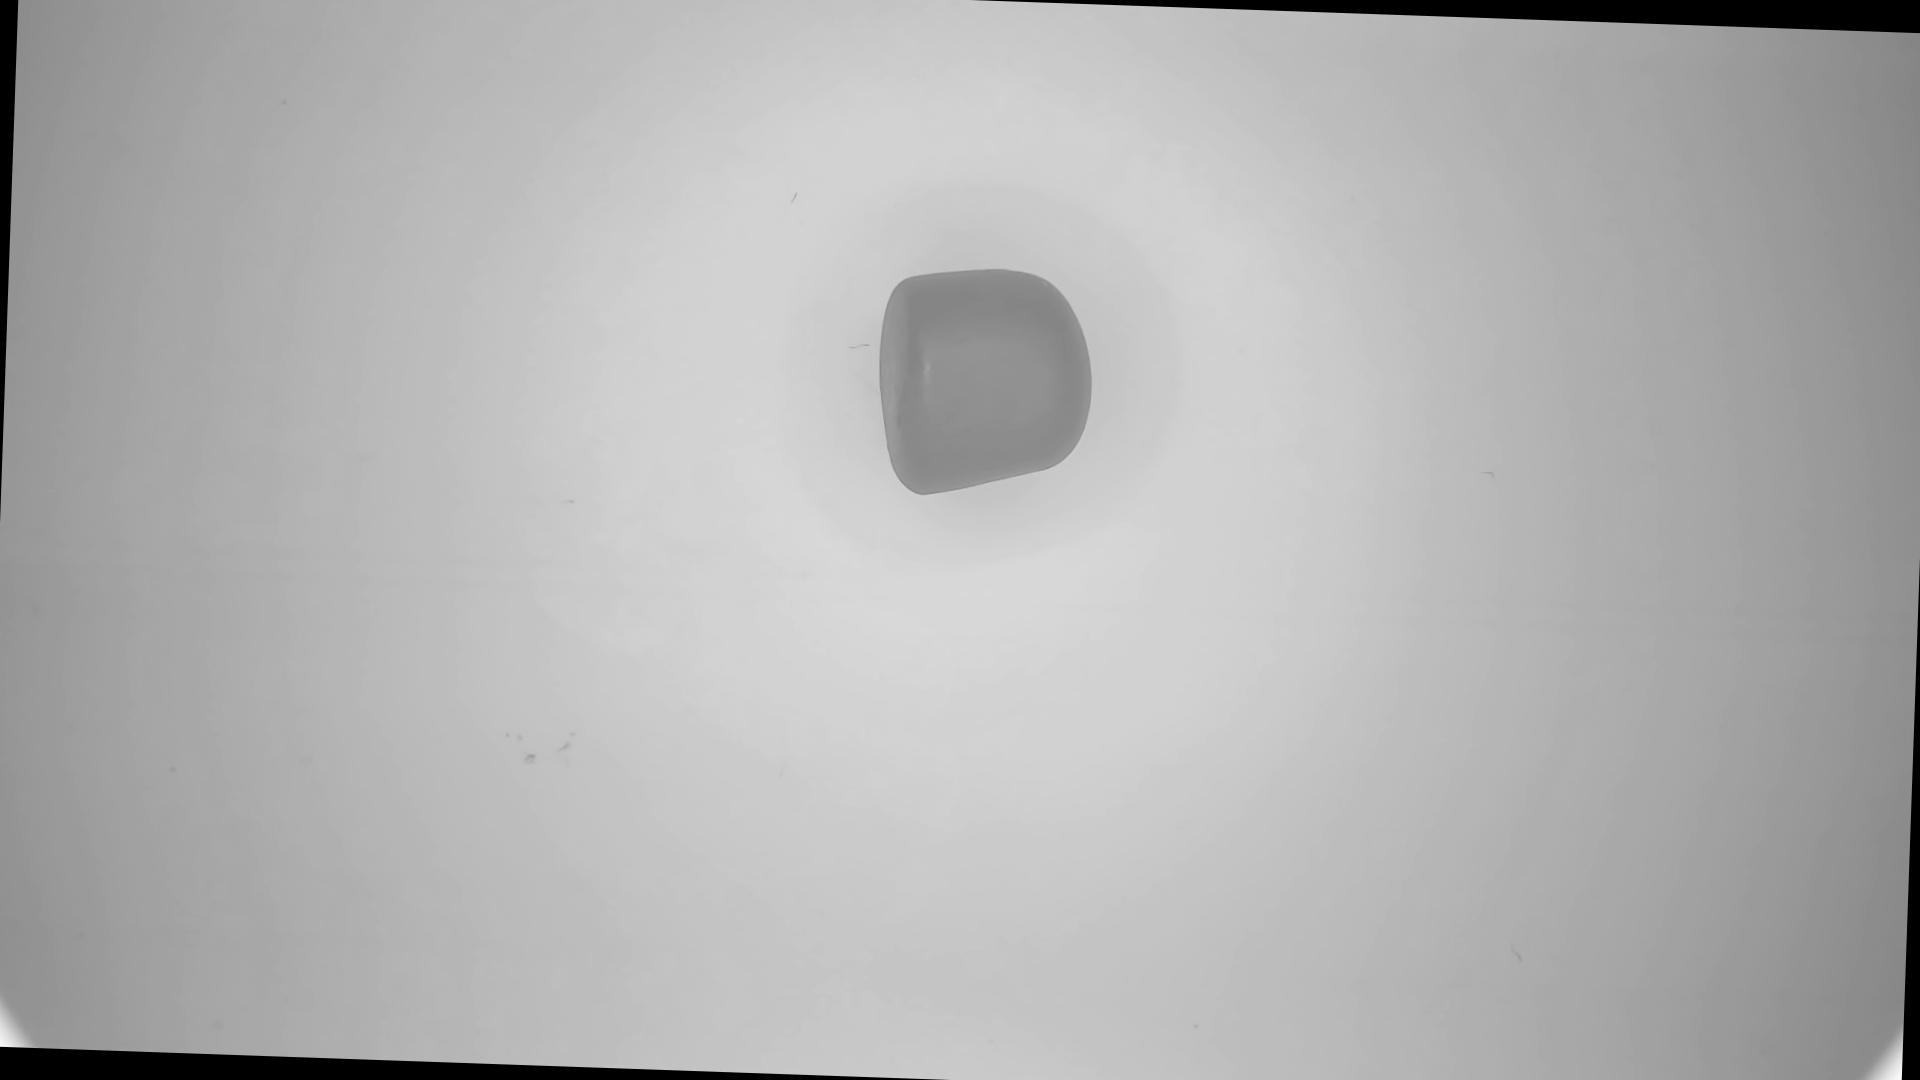normal: (876, 265, 1101, 502)
